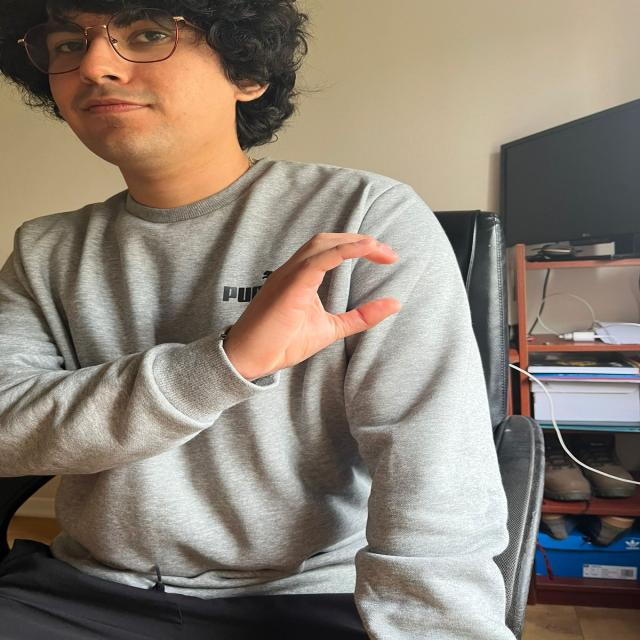C: (233, 225, 418, 365)
